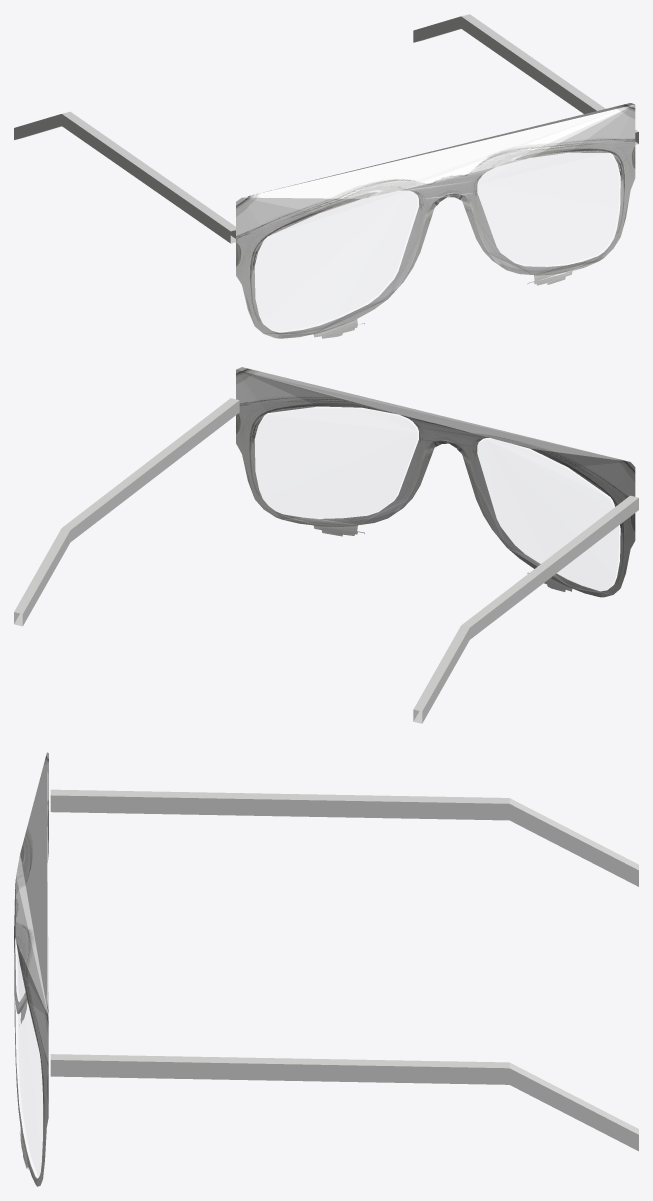
Rendered from gothamstyle-250_crystal.glb.
The picture shows the model from 3 angles, top to bottom: view 1: azimuth 30°, elevation 25°; view 2: azimuth 150°, elevation 25°; view 3: azimuth 270°, elevation 25°; orthographic projection. The views are drawn at different scales.
Visible parts, largest first — view 1: frame_front, temple_viewer_left, temple_viewer_right; view 2: frame_front, temple_viewer_right, temple_viewer_left; view 3: temple_viewer_left, temple_viewer_right, frame_front.
Part boxes in pixels (x1,y1,x2,y2): frame_front: [236, 103, 635, 338]; temple_viewer_left: [14, 111, 235, 243]; temple_viewer_right: [413, 14, 638, 144]; frame_front: [236, 367, 635, 597]; temple_viewer_right: [14, 398, 239, 626]; temple_viewer_left: [413, 495, 638, 723]; temple_viewer_left: [50, 789, 638, 886]; temple_viewer_right: [50, 1054, 638, 1151]; frame_front: [14, 752, 48, 1186].
Bounding box in the file's own units: 0.1392 × 0.0502 × 0.136.
3 materials, 2 textured.
